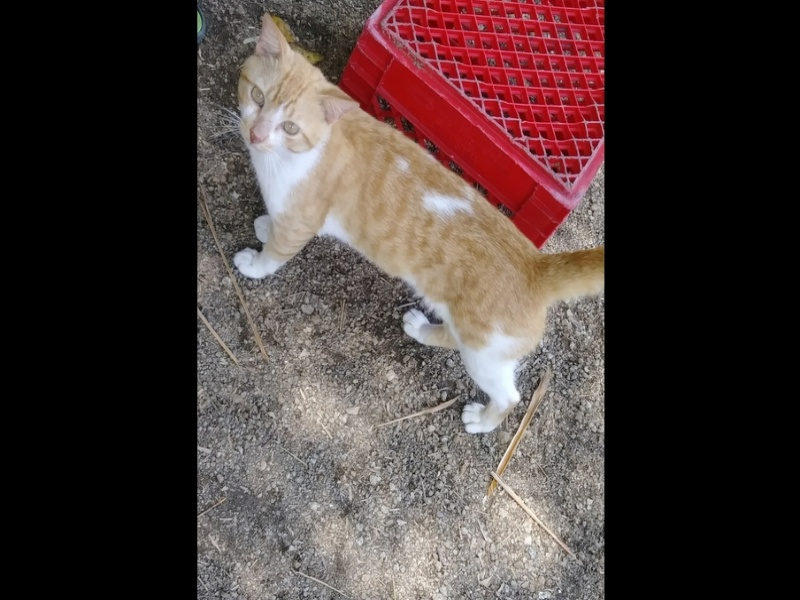cat: (232, 13, 596, 438)
